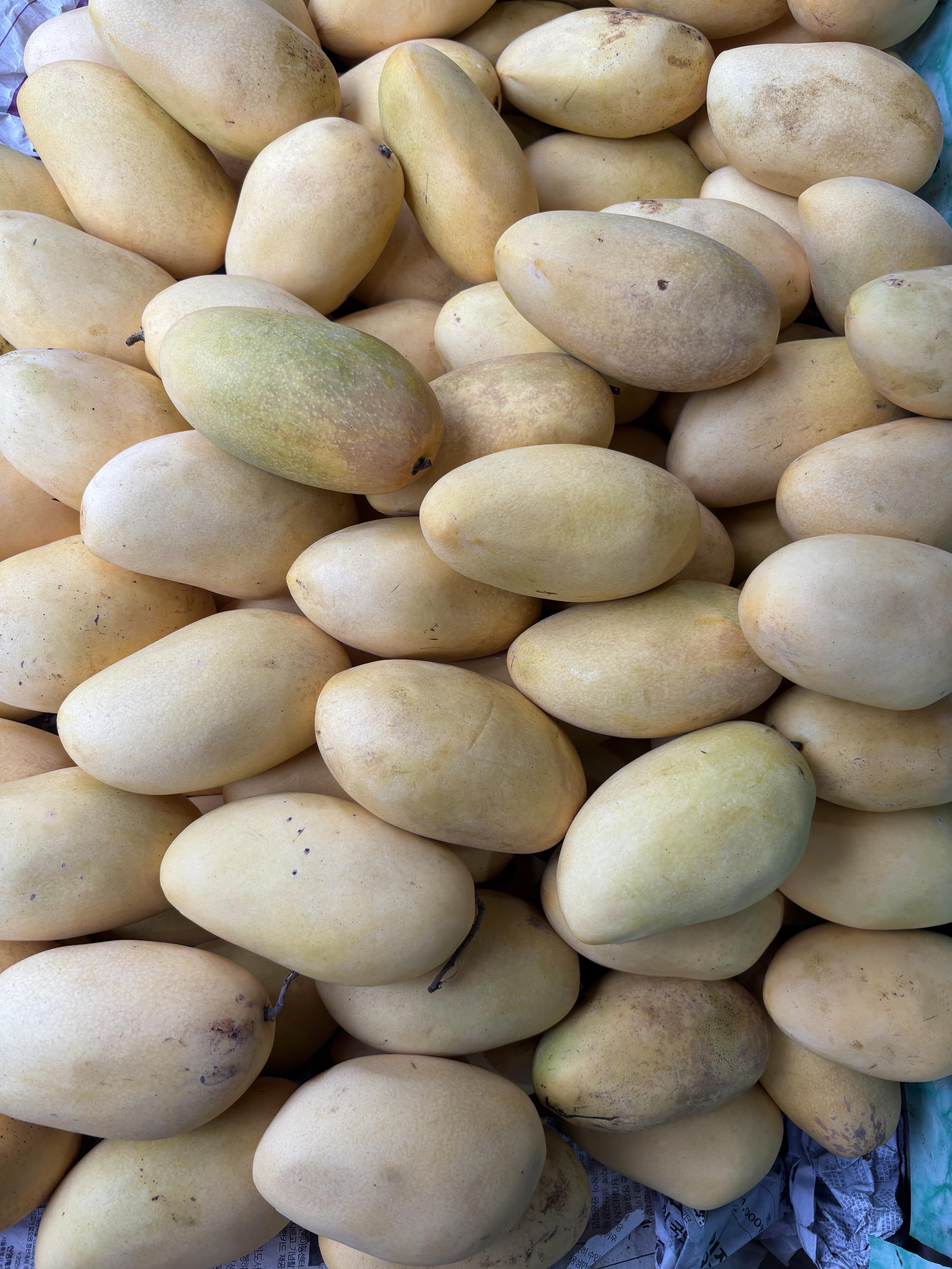mango: (253, 1055, 546, 1266), (160, 793, 476, 986), (557, 721, 815, 946), (161, 307, 443, 496), (315, 660, 586, 853), (495, 211, 780, 391), (420, 444, 699, 603), (497, 6, 714, 138)
occluded: (0, 941, 276, 1140), (58, 609, 349, 795), (34, 1077, 296, 1269), (19, 60, 237, 279), (81, 430, 356, 599), (318, 890, 580, 1056), (508, 579, 781, 738), (667, 337, 908, 508), (89, 0, 340, 161), (375, 353, 615, 515), (379, 41, 538, 283), (0, 536, 215, 713), (533, 972, 769, 1133), (739, 534, 952, 710), (286, 518, 540, 662), (707, 42, 942, 196), (225, 118, 404, 314), (0, 766, 200, 941), (542, 854, 785, 980), (0, 349, 191, 509), (764, 923, 952, 1082), (0, 211, 175, 372), (603, 198, 810, 329), (568, 1084, 783, 1210), (798, 177, 952, 335), (766, 686, 952, 813), (766, 686, 952, 812), (776, 417, 952, 550), (780, 800, 952, 930), (434, 1128, 591, 1269), (760, 1022, 901, 1158), (142, 274, 328, 373), (846, 266, 952, 419), (524, 131, 708, 212), (351, 201, 470, 306), (435, 282, 563, 371), (310, 0, 494, 58), (336, 299, 444, 381), (699, 166, 802, 246), (223, 744, 353, 804), (455, 0, 575, 65), (263, 977, 337, 1076), (788, 0, 937, 49), (610, 0, 787, 41), (24, 7, 121, 76), (716, 501, 791, 586), (420, 38, 502, 111), (198, 939, 290, 1003), (339, 45, 397, 141), (672, 504, 734, 584), (0, 719, 75, 782), (318, 1236, 416, 1269), (687, 104, 729, 172)
